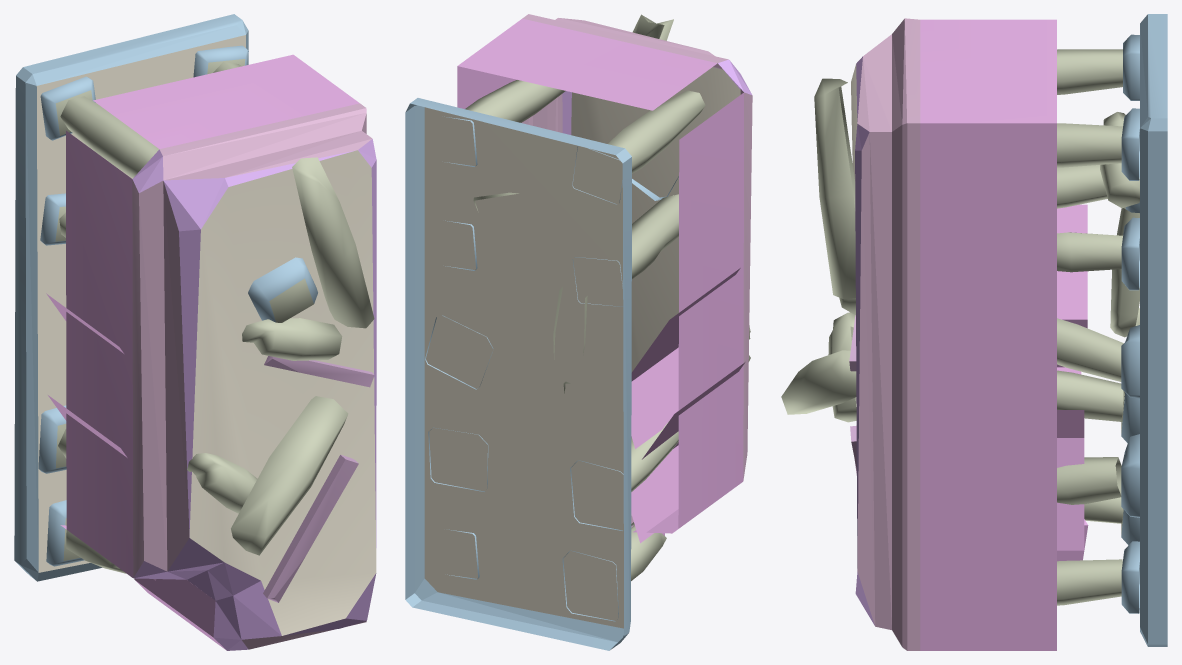
The picture shows the model from 3 angles, left to right: view 1: azimuth 30°, elevation 25°; view 2: azimuth 150°, elevation 25°; view 3: azimuth 270°, elevation 25°; orthographic projection. The views are drawn at different scales.
Visible parts, largest first — view 1: Object36; view 2: Object36; view 3: Object36.
Boxes of the visible parts, <box> form: Object36: <box>14,14,376,650</box>; Object36: <box>405,14,752,650</box>; Object36: <box>781,14,1167,650</box>.
Bounding box in the file's own units: 2471 × 5217 × 3436.
